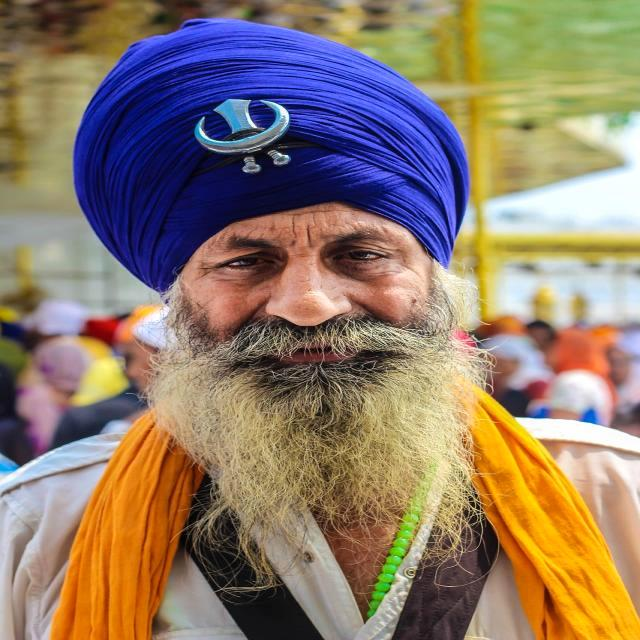no_hard_hat: (74, 18, 469, 290)
person: (5, 204, 639, 640)
